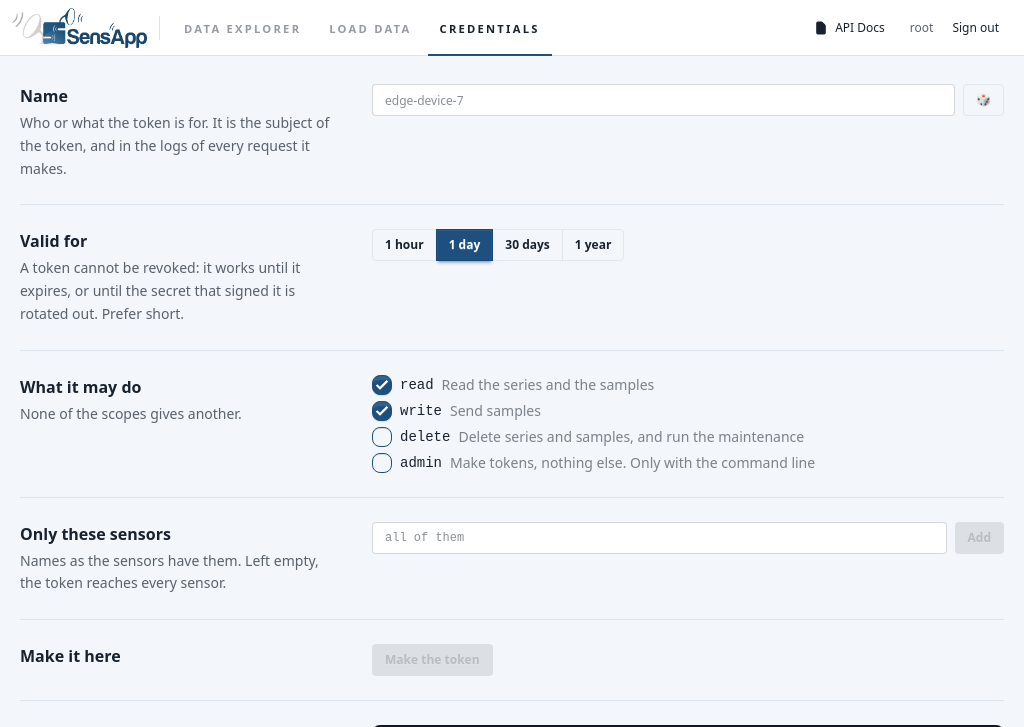
CredentialsPage › makes an admin token with the command only
The image size is (1024, 727).
Type "root" into the field named "Name". click: (664, 100)
box: [372,84,955,116]
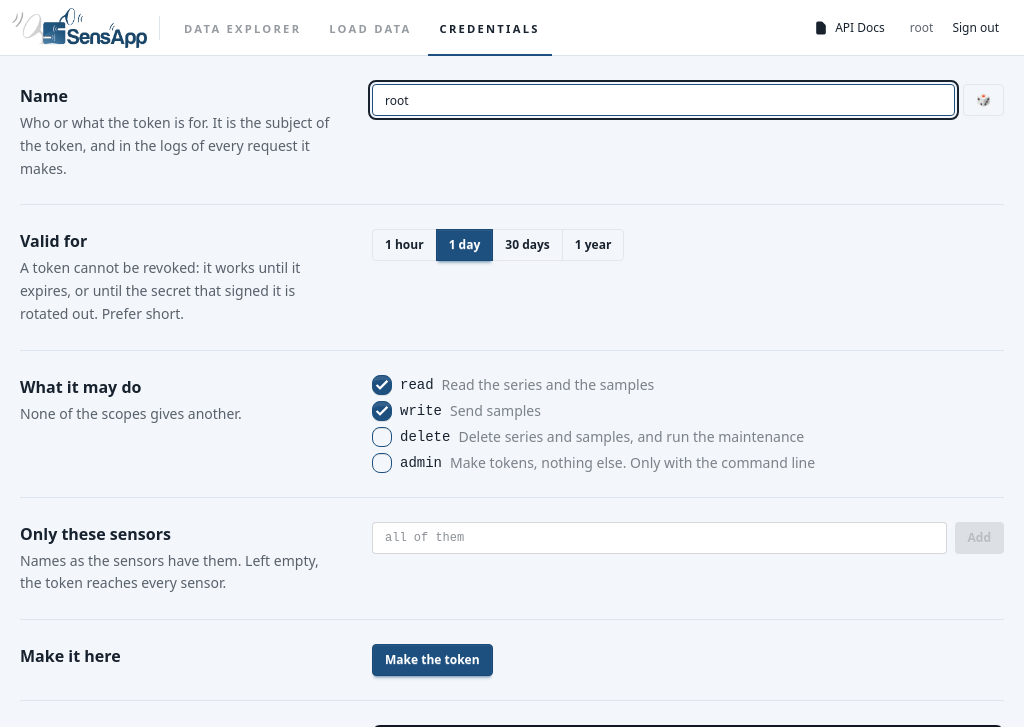
Click the checkbox labelled "admin Make tokens, nothing else. Only with the command line". click: (382, 462)
box: [372,452,392,472]
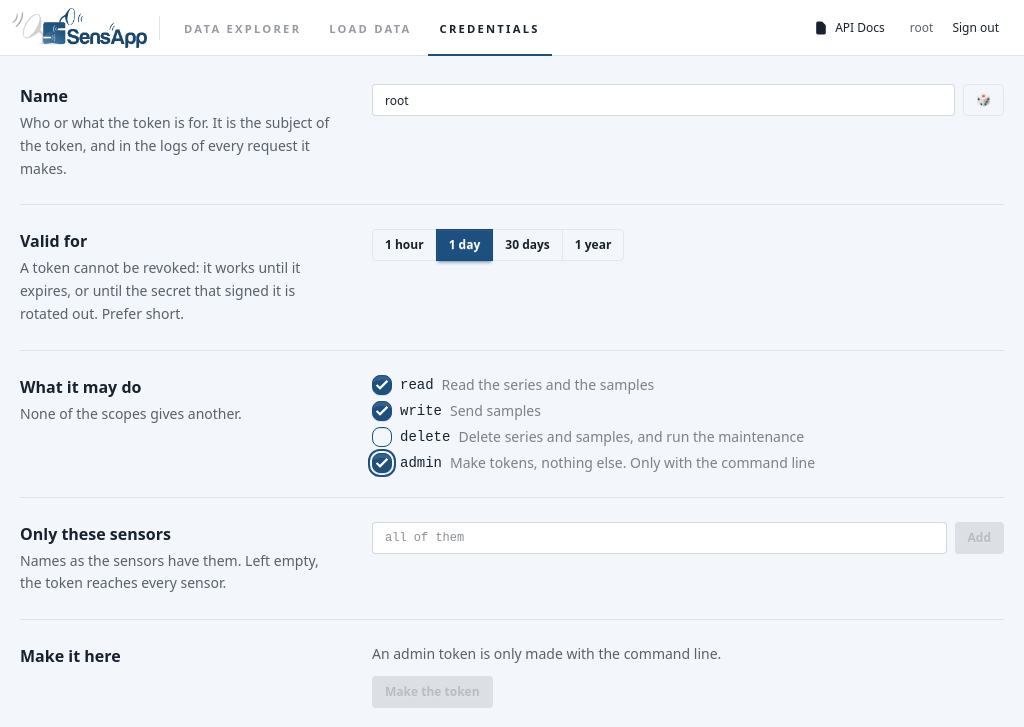
Result: the text "An admin token is only made with the command line." is shown at [372,644,721,663]
Result: the button "Make the token" is disabled at [372,676,493,708]
